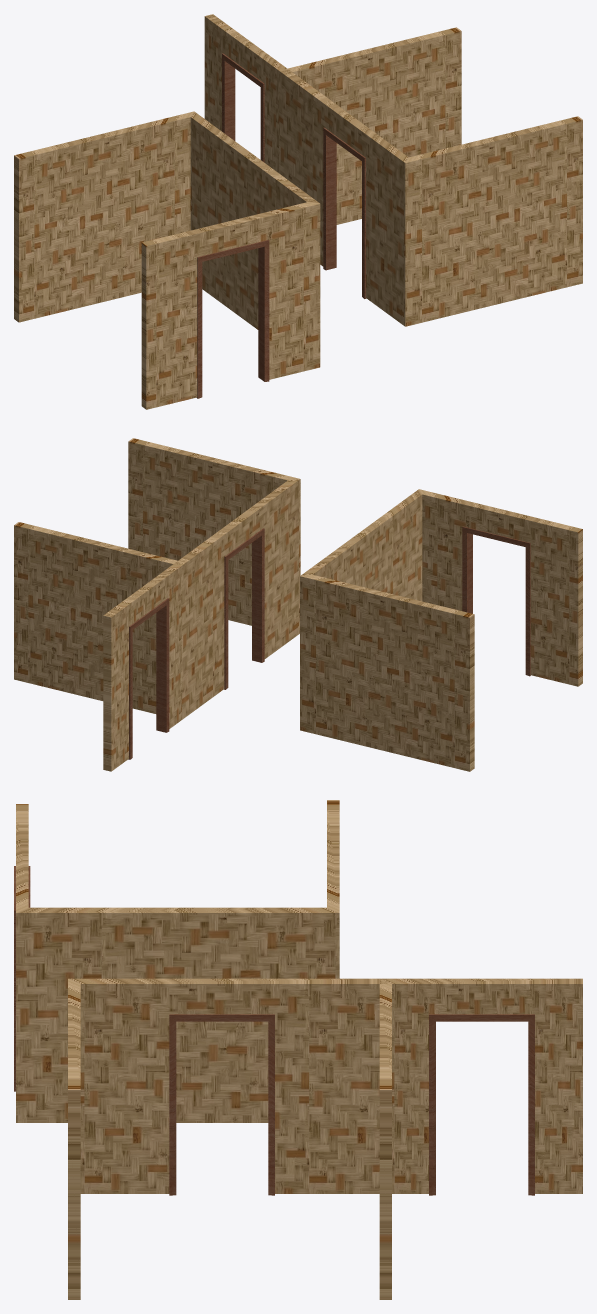
The model's file is R5_Tengah.fbx.
The picture shows the model from 3 angles, top to bottom: view 1: azimuth 30°, elevation 25°; view 2: azimuth 150°, elevation 25°; view 3: azimuth 270°, elevation 25°; orthographic projection. The views are drawn at different scales.
Visible parts, largest first — view 1: Tengah_R5; view 2: Tengah_R5; view 3: Tengah_R5.
Boxes of the visible parts, x1,y1,x2,y2 form: Tengah_R5: (14,14,582,409); Tengah_R5: (14,438,582,771); Tengah_R5: (14,800,582,1299).
Bounding box in the file's own units: 16.33 × 5.54 × 13.55.
2 materials, 2 textured.
